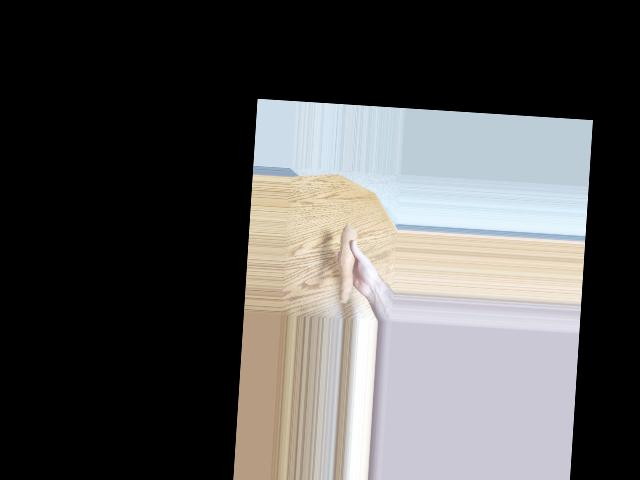sweet_potato: (334, 227, 361, 304)
